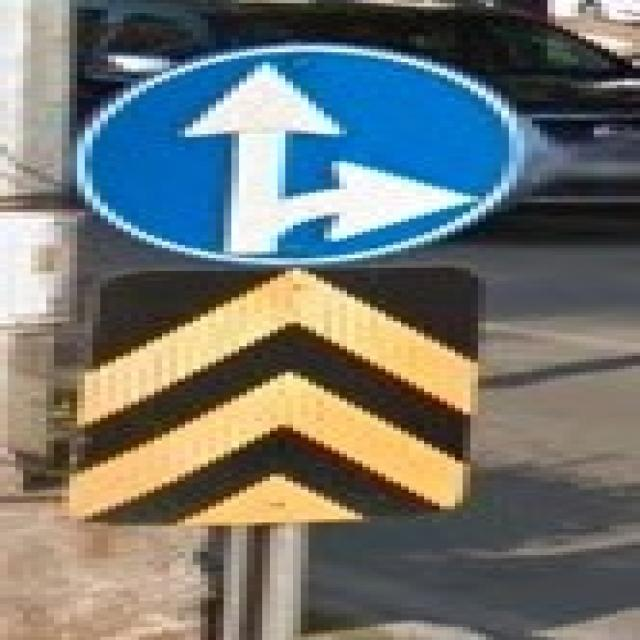Straight or Right: (74, 47, 514, 259)
